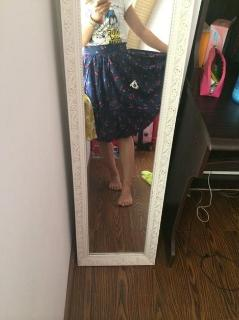short sleeve top: (81, 0, 133, 47)
skirt: (83, 42, 168, 142)
